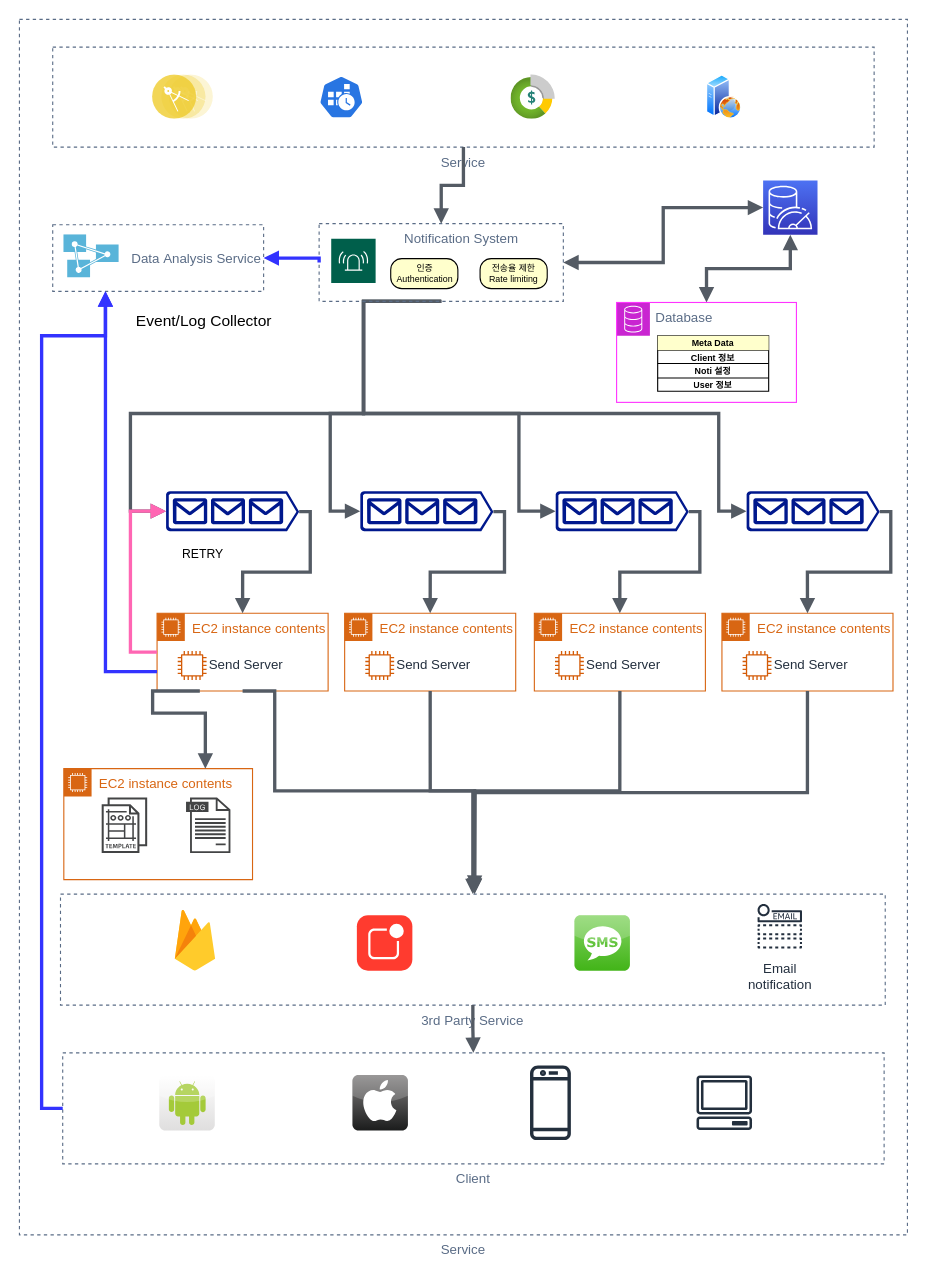
Some shapes in this 927 by 1278 pixel diagram are drawn without their labels. Each missing label, with the centre of its shape:
"APNS" goes at pixel 384 942.
"Billing System" goes at pixel 532 96.
"CronJob" goes at pixel 341 96.
"FCM" goes at pixel 194 939.
"Log" goes at pixel 207 824.
"Micro Service" goes at pixel 182 96.
"Redis Cache" goes at pixel 790 207.
"SMS Service" goes at pixel 601 942.
"Template" goes at pixel 124 824.
"Web Server" goes at pixel 723 96.
